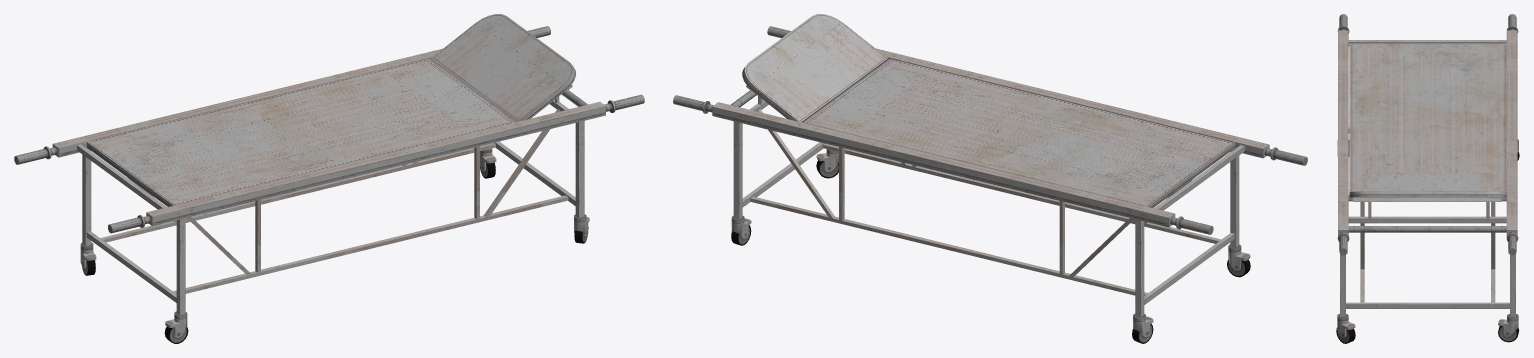
Rendered from HH_Hospital_Bed_04.fbx.
The picture shows the model from 3 angles, left to right: view 1: azimuth 30°, elevation 25°; view 2: azimuth 150°, elevation 25°; view 3: azimuth 270°, elevation 25°; orthographic projection. The views are drawn at different scales.
Visible parts, largest first — view 1: HH_Hospital_Bed_04_LOD0; view 2: HH_Hospital_Bed_04_LOD0; view 3: HH_Hospital_Bed_04_LOD0.
Part boxes in pixels (bbox=[...]): HH_Hospital_Bed_04_LOD0: bbox=[14, 14, 644, 343]; HH_Hospital_Bed_04_LOD0: bbox=[673, 14, 1307, 343]; HH_Hospital_Bed_04_LOD0: bbox=[1336, 14, 1519, 343].
Size of what is drawn, in the model's own units: 293 by 88.78 by 96.87.
